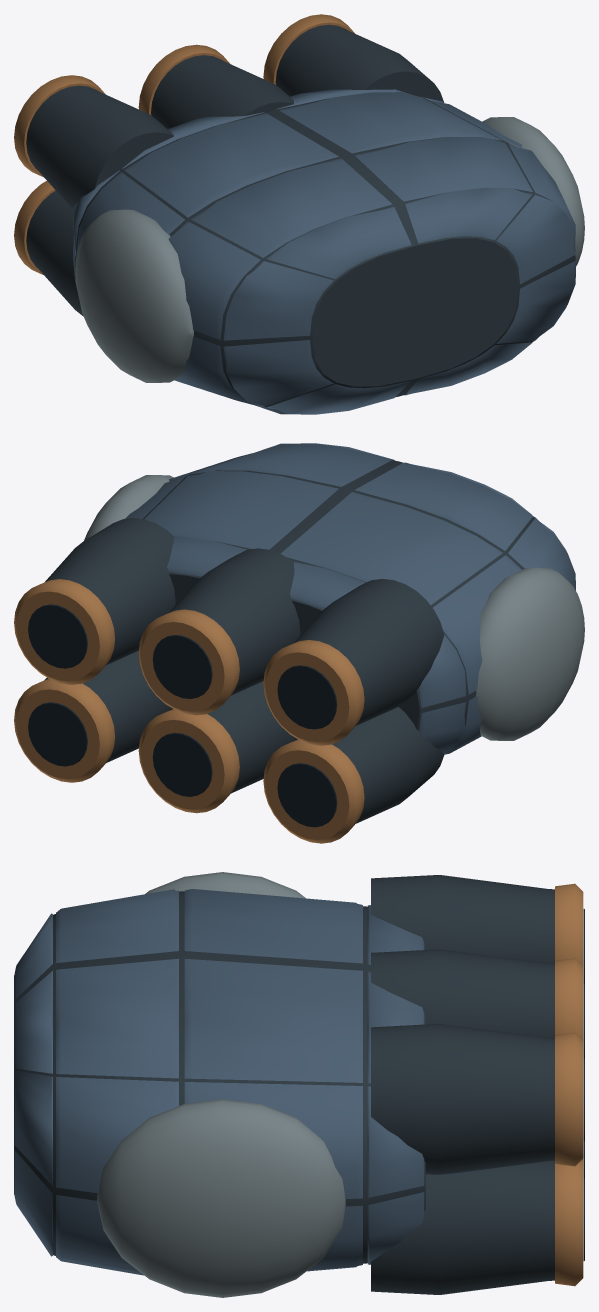
Rendered from boss_launcher.glb.
3 views of the same model, one above another, from view 1: azimuth 30°, elevation 25°; view 2: azimuth 150°, elevation 25°; view 3: azimuth 270°, elevation 25° (orthographic). The views are drawn at different scales.
Visible parts, largest first — view 1: boss_launcher; view 2: boss_launcher; view 3: boss_launcher.
Boxes of the visible parts, box(x1,y1,x2,y2) form: boss_launcher: box(14, 14, 584, 414); boss_launcher: box(14, 443, 584, 843); boss_launcher: box(14, 872, 584, 1297).
Size of the model in its own units: 7.36 by 3.31 by 6.48.
